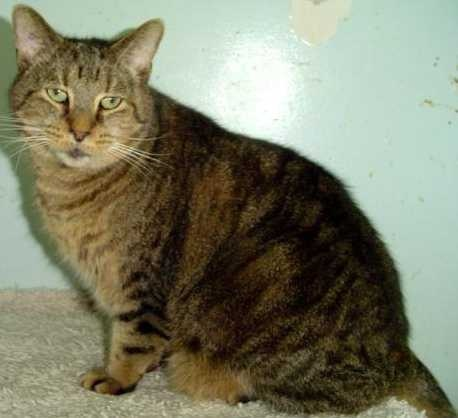Cat: (10, 6, 410, 411)
